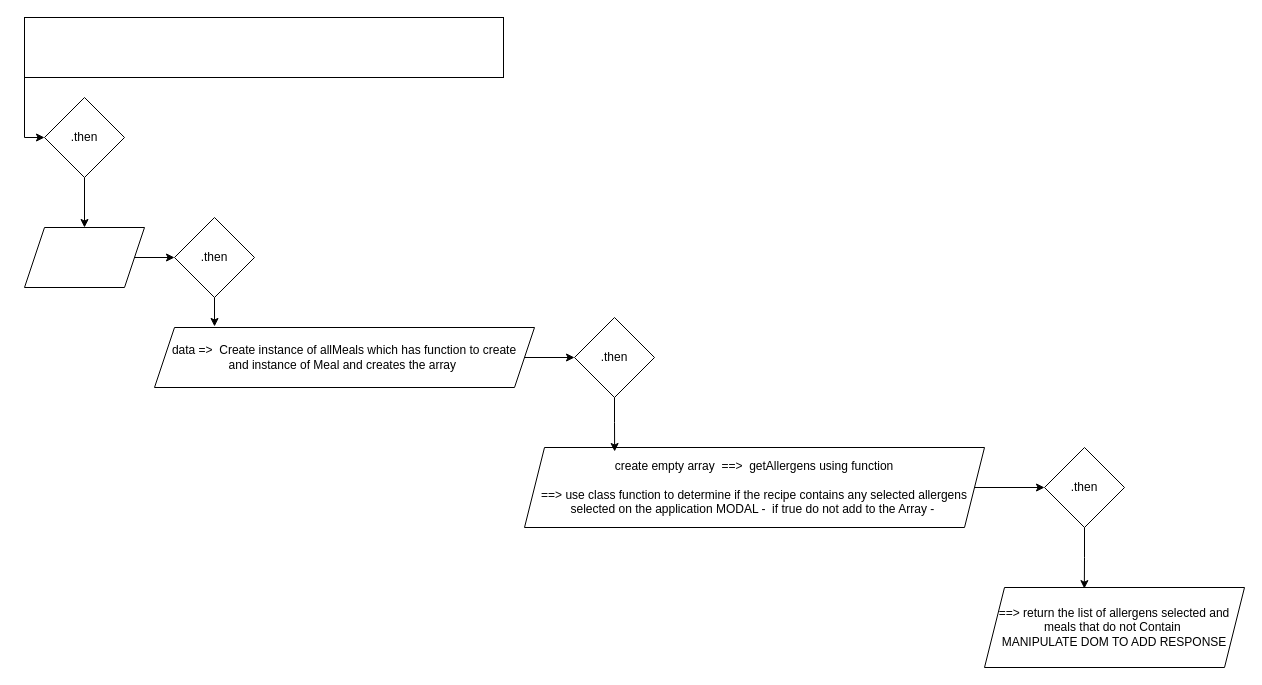
Image size: 1262x685. Some labels were removed from this diagram. The shapes that lost their labels are listed below. From the top down, each one's centre as x and y in pixels, then its label:
At point (264, 47): "fetch ( 'https://dummyjson.com/recipes'".
At point (84, 257): "parse JSON response.json()".
